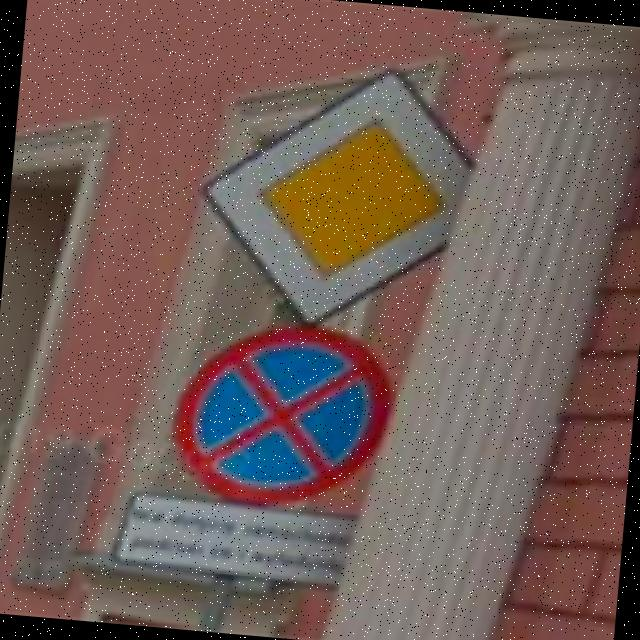Droga z pierwszenstwem: (184, 50, 486, 344)
Zakaz zatrzymywania sie: (164, 314, 402, 517)
